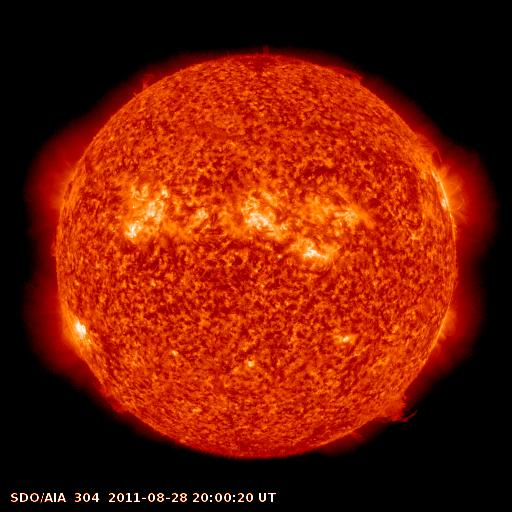prominence: (86, 376, 147, 419), (374, 385, 426, 432), (319, 55, 374, 90), (411, 124, 445, 167)
